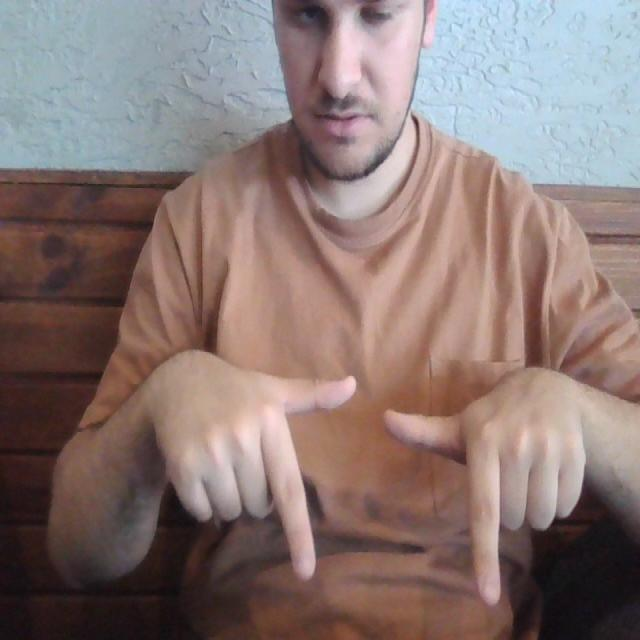Nerede: (243, 373, 514, 609)
